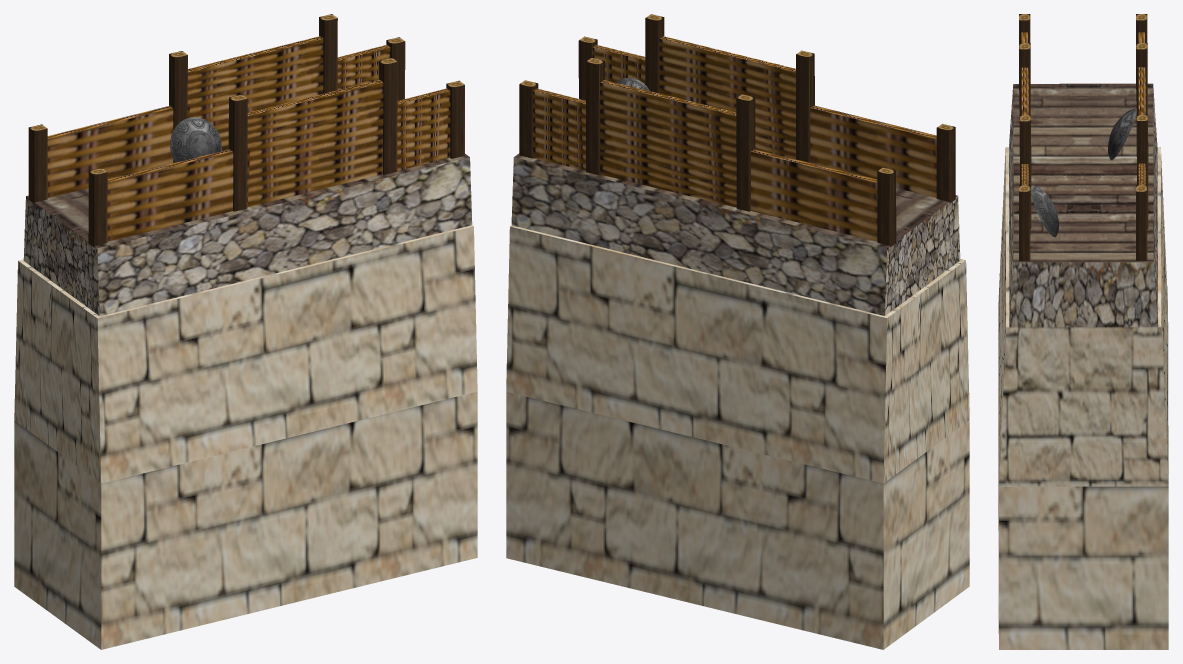
Rendered from wall_medium.dae.
3 views of the same model, side by side, from view 1: azimuth 30°, elevation 25°; view 2: azimuth 150°, elevation 25°; view 3: azimuth 270°, elevation 25° (orthographic). The views are drawn at different scales.
Visible parts, largest first — view 1: wall_medium; view 2: wall_medium; view 3: wall_medium.
Boxes of the visible parts, <box> form: wall_medium: <box>14,14,477,649</box>; wall_medium: <box>506,14,969,649</box>; wall_medium: <box>998,14,1168,649</box>.
Bounding box in the file's own units: 15.6 × 6.22 × 19.97.
